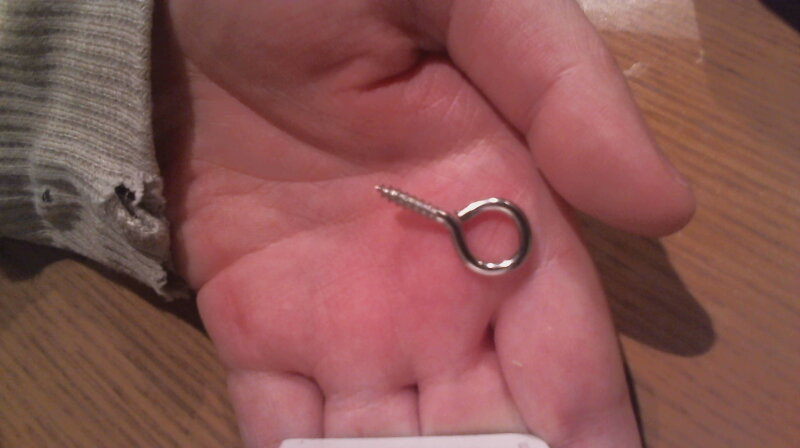O001: (371, 180, 536, 282)
